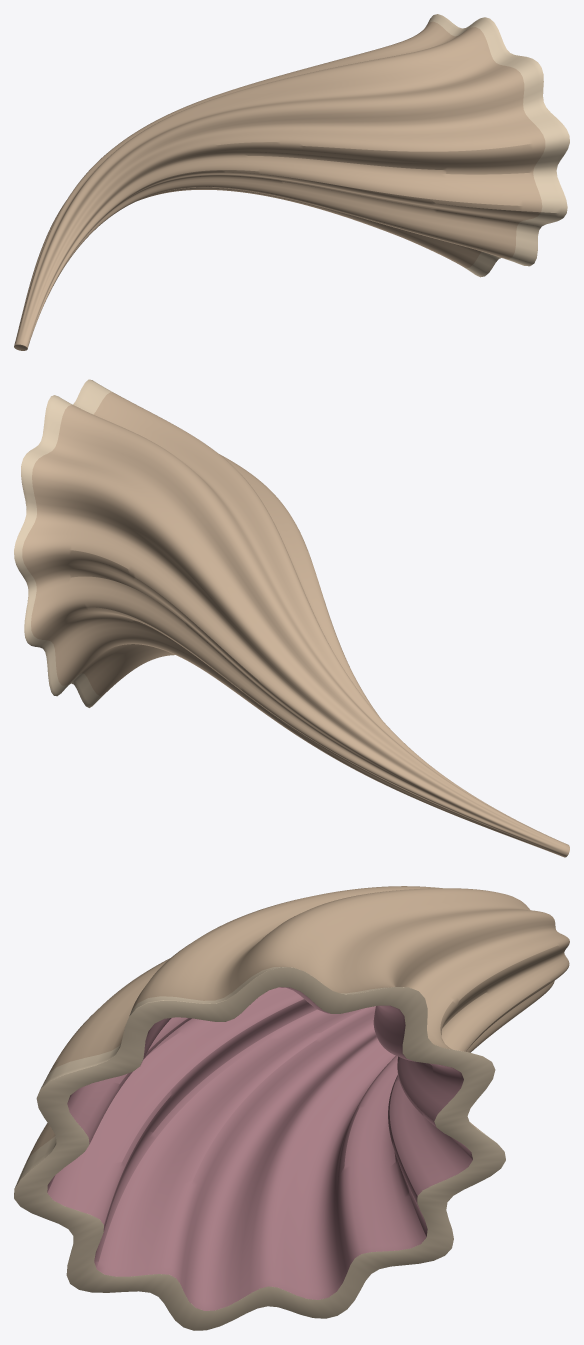
Rendered from ebbhorn-carapace.glb.
3 views of the same model, one above another, from view 1: azimuth 30°, elevation 25°; view 2: azimuth 150°, elevation 25°; view 3: azimuth 270°, elevation 25° (orthographic). The views are drawn at different scales.
Parts seen in each view (by area): view 1: continuous_ebbhorn_shell; view 2: continuous_ebbhorn_shell; view 3: continuous_ebbhorn_shell.
Part boxes in pixels (left/top/right/bottom): continuous_ebbhorn_shell: left=14, top=14, right=569, bottom=350; continuous_ebbhorn_shell: left=14, top=379, right=569, bottom=857; continuous_ebbhorn_shell: left=14, top=886, right=569, bottom=1330.
Bounding box in the file's own units: 202 × 103 × 125.
